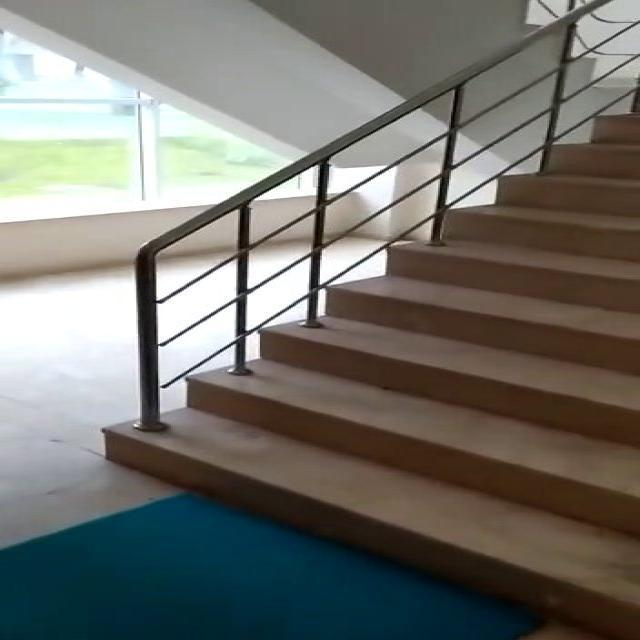stair: (59, 71, 640, 638)
